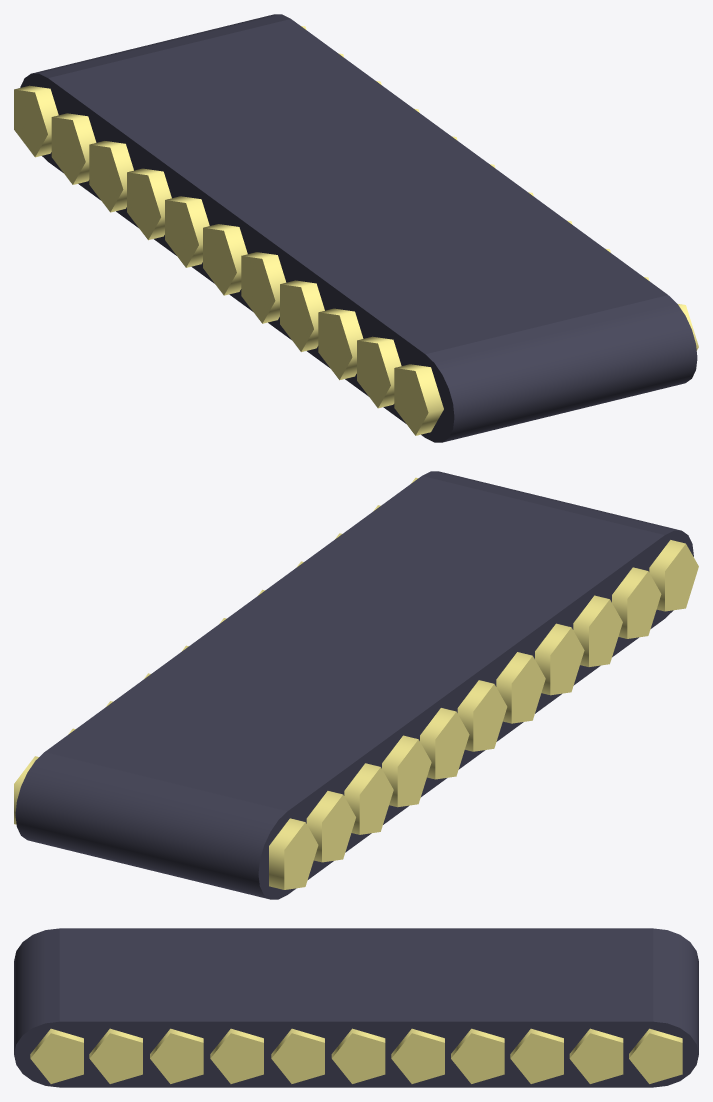
File: ConvayerBelt (Early).fbx
3 renders of one model, top to bottom at view 1: azimuth 30°, elevation 25°; view 2: azimuth 150°, elevation 25°; view 3: azimuth 270°, elevation 25°, orthographic. The views are drawn at different scales.
Visible parts, largest first — view 1: ConvayerBelt_01; view 2: ConvayerBelt_01; view 3: ConvayerBelt_01.
Part boxes in pixels (x1,y1,x2,y2): ConvayerBelt_01: [14, 14, 698, 442]; ConvayerBelt_01: [14, 471, 698, 899]; ConvayerBelt_01: [14, 928, 698, 1087].
Bounding box in the file's own units: 0.4644 × 0.1373 × 1.3.
